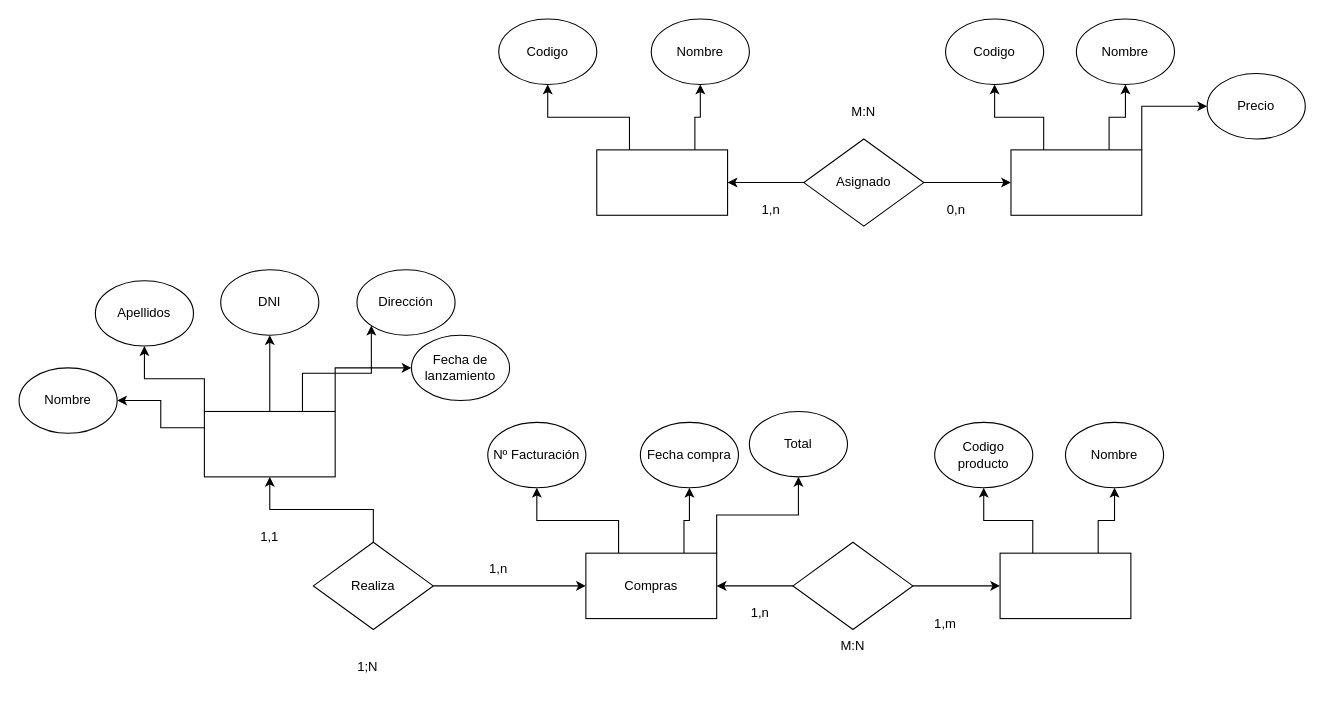
Some shapes in this 1324 by 703 pixel diagram are drawn without their labels. The centre of each missing label's shape, as x and y in pixels:
"Categoria" goes at (662,182).
"Clientes" goes at (269,443).
"Compuesta" goes at (852,585).
"Producto" goes at (1076,182).
"Productos" goes at (1065,585).
